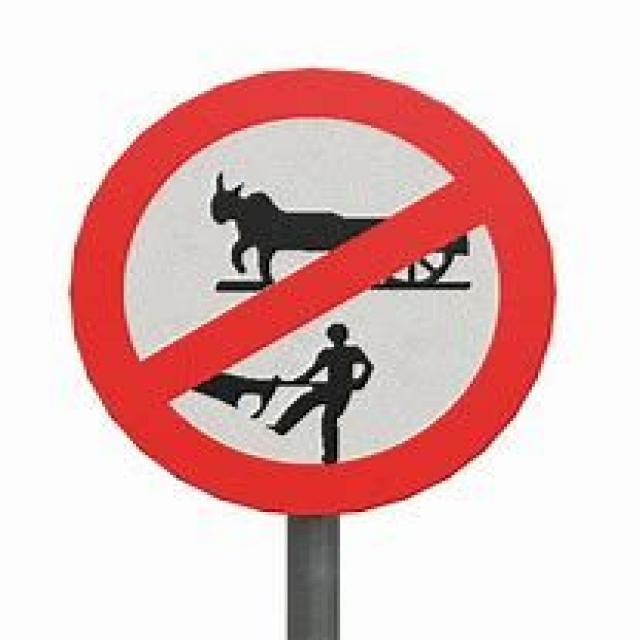BULLOCK_AND_HANDCART_PROHIBITED: (68, 65, 560, 515)
